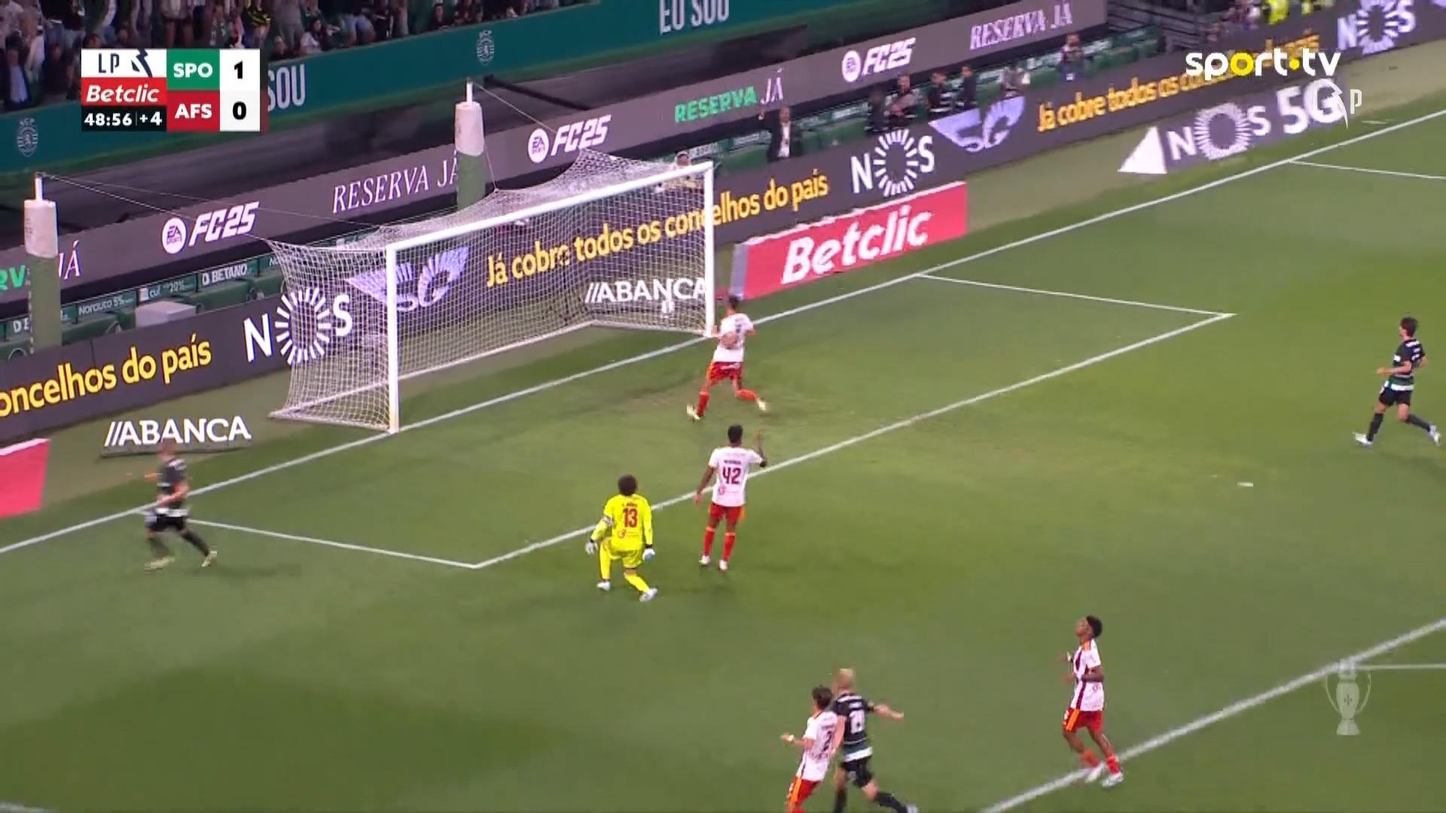ball: (661, 299, 676, 315)
goalkeeper: (584, 473, 659, 602)
player: (827, 667, 915, 811), (1352, 315, 1441, 447), (1060, 614, 1124, 788), (693, 423, 767, 571), (685, 291, 768, 421), (140, 437, 218, 571), (779, 684, 843, 811)
